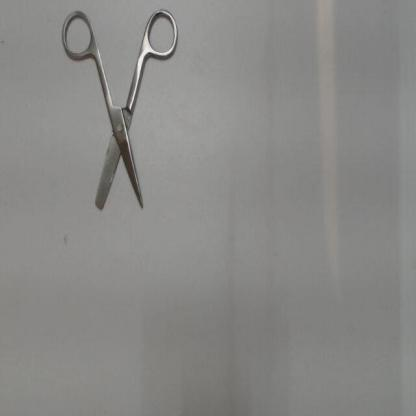Dressing Scissors: (54, 2, 185, 224)
